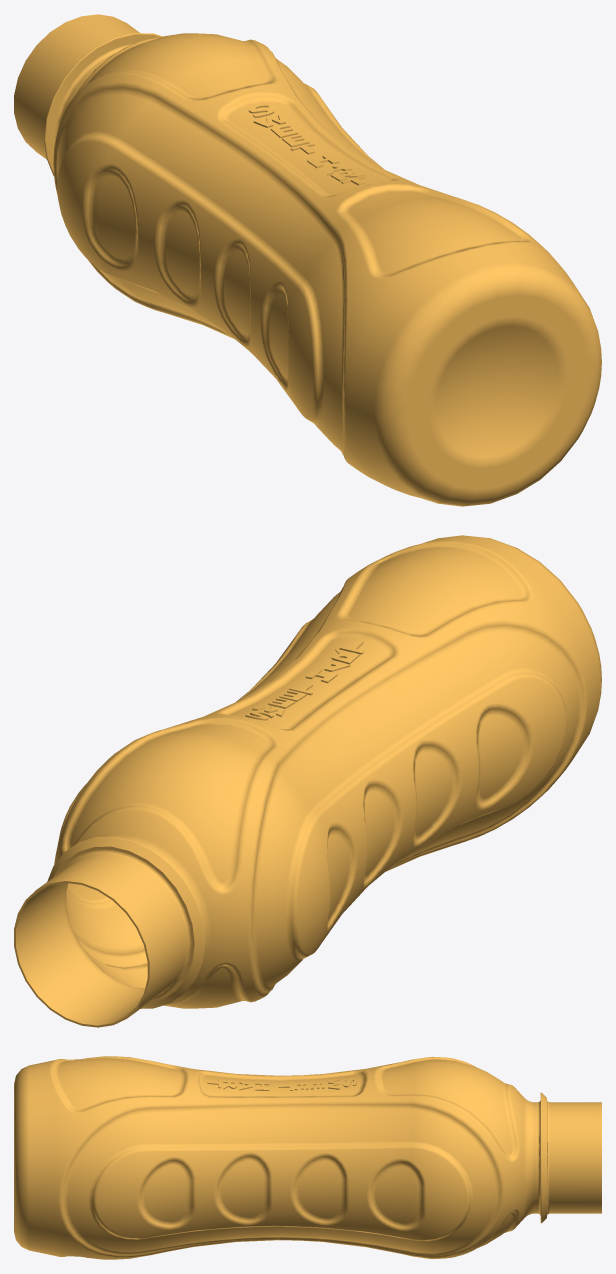
The model's file is Bottle3.gltf.
The picture shows the model from 3 angles, top to bottom: view 1: azimuth 30°, elevation 25°; view 2: azimuth 150°, elevation 25°; view 3: azimuth 270°, elevation 25°; orthographic projection. The views are drawn at different scales.
Visible parts, largest first — view 1: 19; view 2: 19; view 3: 19.
Boxes of the visible parts, x1=… form: 19: x1=14, y1=14, x2=601, y2=506; 19: x1=14, y1=535, x2=601, y2=1027; 19: x1=14, y1=1056, x2=601, y2=1259.
Bounding box in the file's own units: 0.0787 × 0.0758 × 0.2247.
